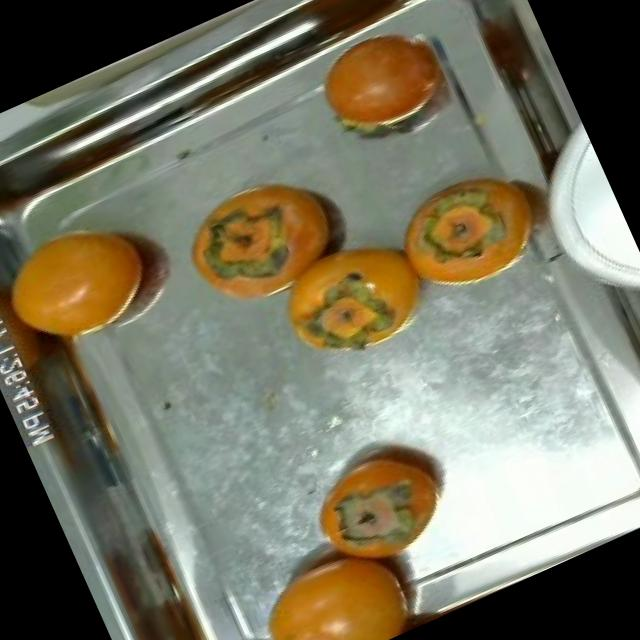Fruit: (373, 141, 570, 318), (284, 413, 479, 590), (162, 152, 358, 328), (0, 193, 173, 369), (294, 5, 472, 167), (227, 513, 439, 640)
